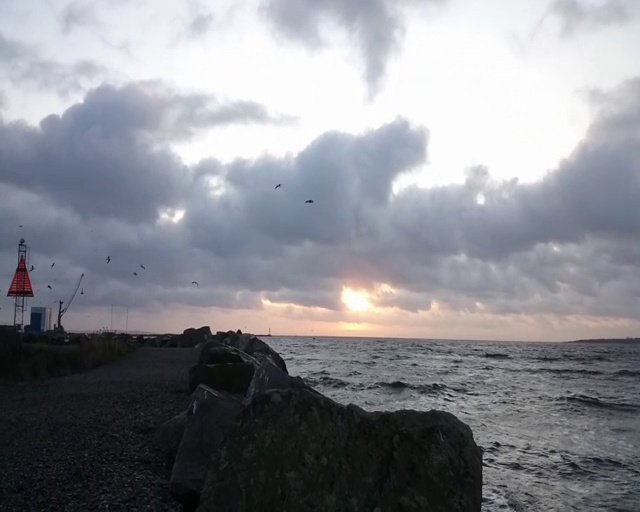BIRD: (47, 269, 86, 332)
